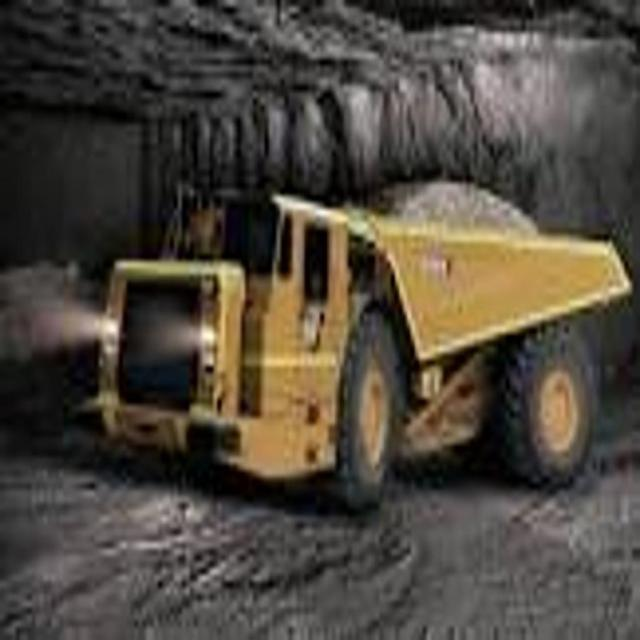dump_truck: (94, 139, 630, 513)
